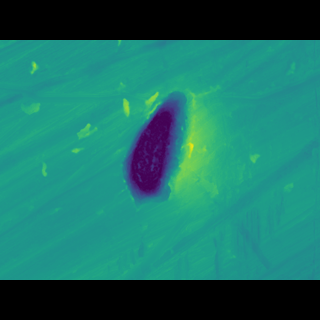Loch: (0, 91, 320, 121), (114, 101, 202, 201)
